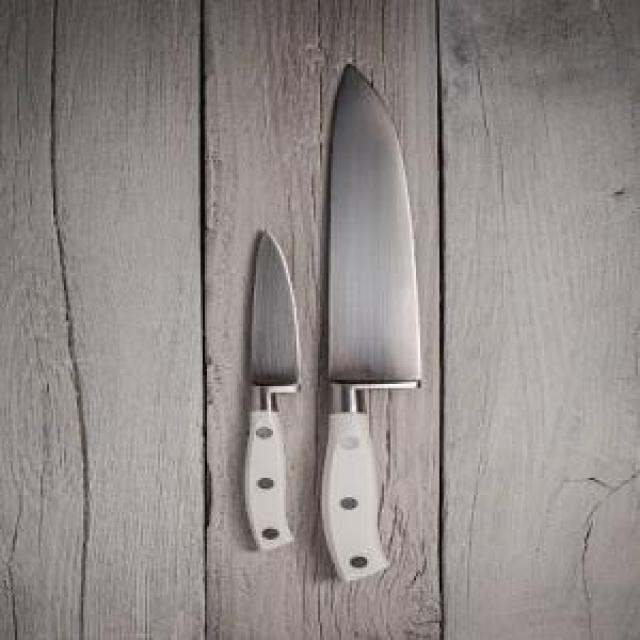knife: (316, 58, 423, 582), (243, 224, 305, 549)
